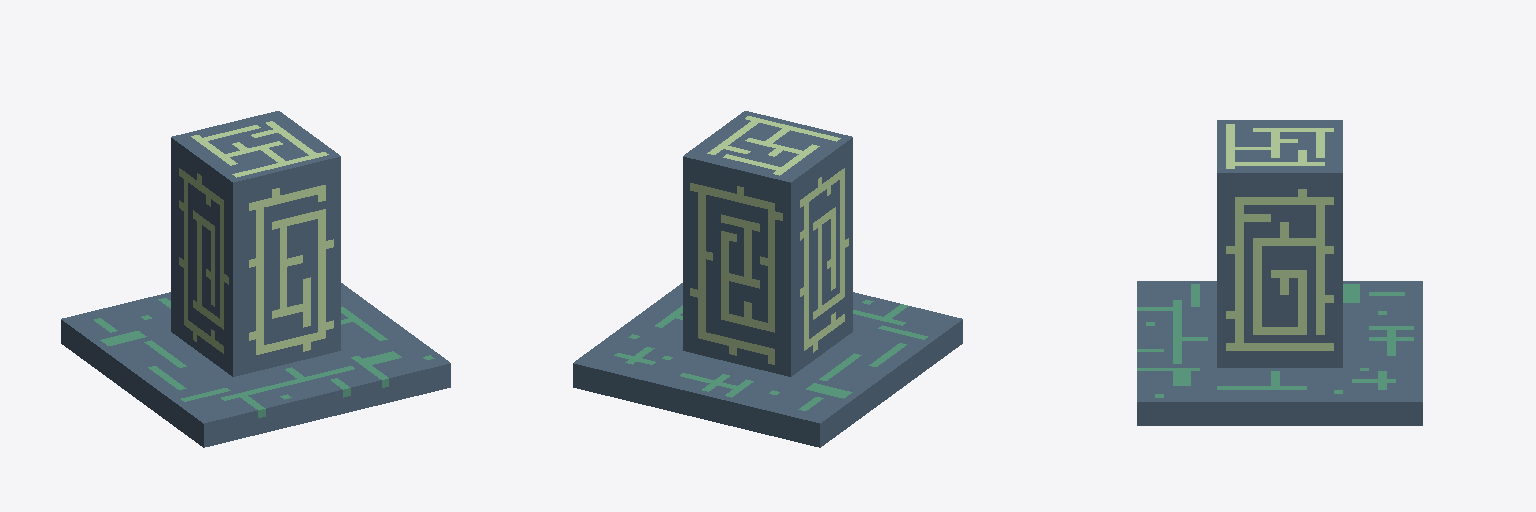
3 views of the same model, side by side, from view 1: azimuth 30°, elevation 25°; view 2: azimuth 150°, elevation 25°; view 3: azimuth 270°, elevation 25° (orthographic).
Size of the model in its own units: 32 by 27 by 32.
1 materials, 1 textured.